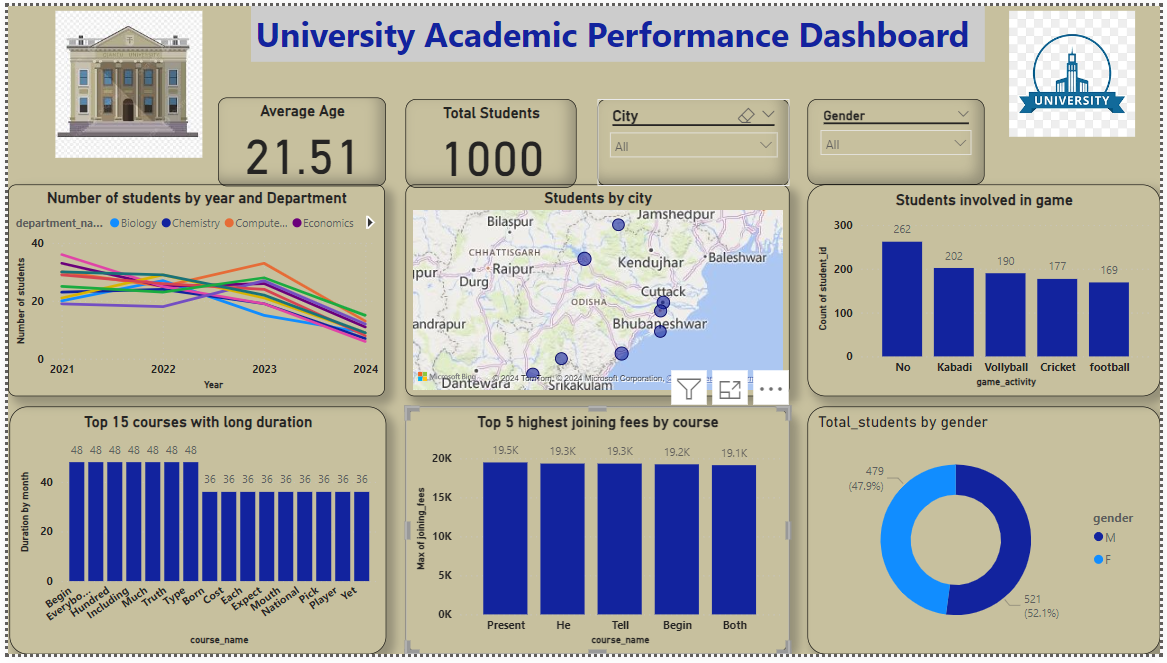

What the dashboard file says about the page in this screenshot:
{"tool":"powerbi","page":{"name":"Student","canvas":[1280,720],"ordinal":1},"visuals":[{"type":"card","title":"Average Age","fields":{"Values":["Avg(university_education students.age)"]},"box":[233.3,101.7,186.7,98.3],"z":0},{"type":"donutChart","fields":{"Y":["university_education students.Total_students"],"Category":["university_education students.gender"]},"box":[888.3,445,391.7,275],"z":1000},{"type":"card","title":"Total Students","fields":{"Values":["CountNonNull(university_education students.student_id)"]},"box":[441.7,103.3,190,98.3],"z":2000},{"type":"clusteredColumnChart","fields":{"Category":["university_education students.previous_exam_board"],"Y":["university_education students.Total_students"]},"box":[1.7,445,418.3,275],"z":3000},{"type":"clusteredColumnChart","fields":{"Category":["university_education students.game_activity"],"Y":["CountNonNull(university_education students.student_id)"]},"box":[888.3,198.3,391.7,235],"z":4000},{"type":"lineChart","fields":{"Y":["CountNonNull(university_education students.student_id)"],"Category":["university_education students.enrollment_date.Variation.Date Hierarchy.Year"],"Series":["university_education departments.department_name"]},"box":[0,198.3,418.3,235],"z":5000},{"type":"map","fields":{"Size":["CountNonNull(university_education students.student_id)"],"Category":["university_education students.City"]},"box":[441.7,198.3,426.7,235],"z":6000},{"type":"clusteredColumnChart","fields":{"Category":["university_education courses.course_name"],"Y":["Max(university_education courses.joining_fees)"]},"box":[441.7,445,426.7,275],"z":7000},{"type":"textbox","box":[270,0,815,61.7],"z":8000},{"type":"image","box":[0,0,268.3,173.3],"z":9000},{"type":"image","box":[1085,0,195,150],"z":10000},{"type":"slicer","fields":{"Values":["university_education students.City"]},"box":[655,103.3,213.3,96.7],"z":10001},{"type":"slicer","fields":{"Values":["university_education students.gender"]},"box":[888.3,103.3,196.7,95],"z":10002}]}

Visuals, with their boxes in screenshot pixels (x1, y1, x2, y2), scaled from the page's 1280x720 canvas onto the 1167x663 screenshot:
"Average Age" card: region(213, 94, 383, 184)
donutChart - university_education students.Total_students x university_education students.gender: region(810, 410, 1166, 662)
"Total Students" card: region(403, 95, 576, 186)
clusteredColumnChart - university_education students.previous_exam_board x university_education students.Total_students: region(2, 410, 383, 662)
clusteredColumnChart - university_education students.game_activity x CountNonNull(university_education students.student_id): region(810, 183, 1166, 399)
lineChart - CountNonNull(university_education students.student_id) x university_education students.enrollment_date.Variation.Date Hierarchy.Year: region(0, 183, 381, 399)
map - CountNonNull(university_education students.student_id) x university_education students.City: region(403, 183, 792, 399)
clusteredColumnChart - university_education courses.course_name x Max(university_education courses.joining_fees): region(403, 410, 792, 662)
textbox: region(246, 0, 989, 57)
image: region(0, 0, 245, 160)
image: region(989, 0, 1166, 138)
slicer - university_education students.City: region(597, 95, 792, 184)
slicer - university_education students.gender: region(810, 95, 989, 183)
